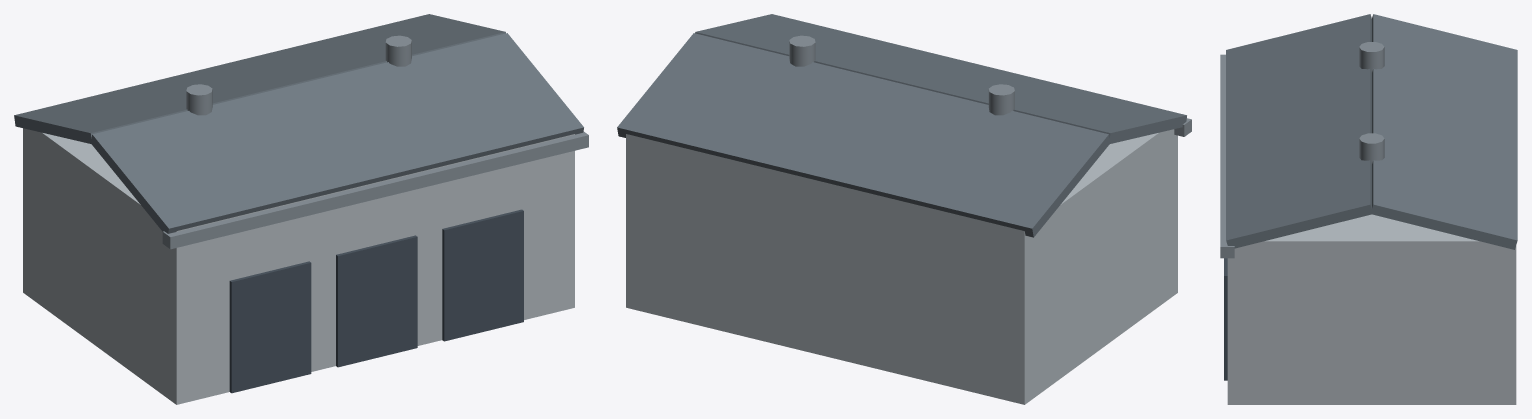
The model's file is warehouse.gltf.
The picture shows the model from 3 angles, left to right: view 1: azimuth 30°, elevation 25°; view 2: azimuth 150°, elevation 25°; view 3: azimuth 270°, elevation 25°; orthographic projection. The views are drawn at different scales.
Visible parts, largest first — view 1: warehouse; view 2: warehouse; view 3: warehouse.
Part boxes in pixels (left/top/right/bottom): warehouse: left=14, top=14, right=588, bottom=404; warehouse: left=617, top=14, right=1191, bottom=404; warehouse: left=1220, top=14, right=1517, bottom=404.
Bounding box in the file's own units: 12.6 × 6.75 × 8.24.
